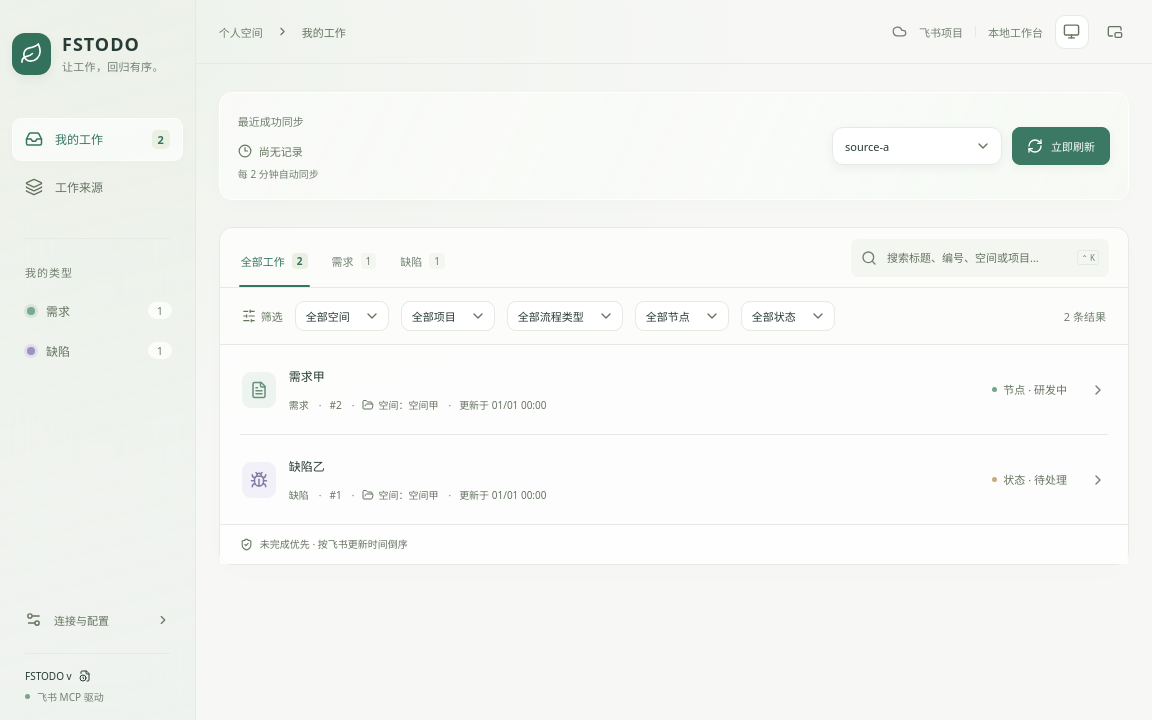
Test: 清单模式 › 在小窗内打开详情，Esc 或返回按钮回到清单并把焦点还给原事项
Check: the text "需求甲" is shown, box x1=289 y1=368 x2=325 y2=385
Click the button named "切换到清单模式" at [1115, 32], box x1=1101 y1=18 x2=1129 y2=46
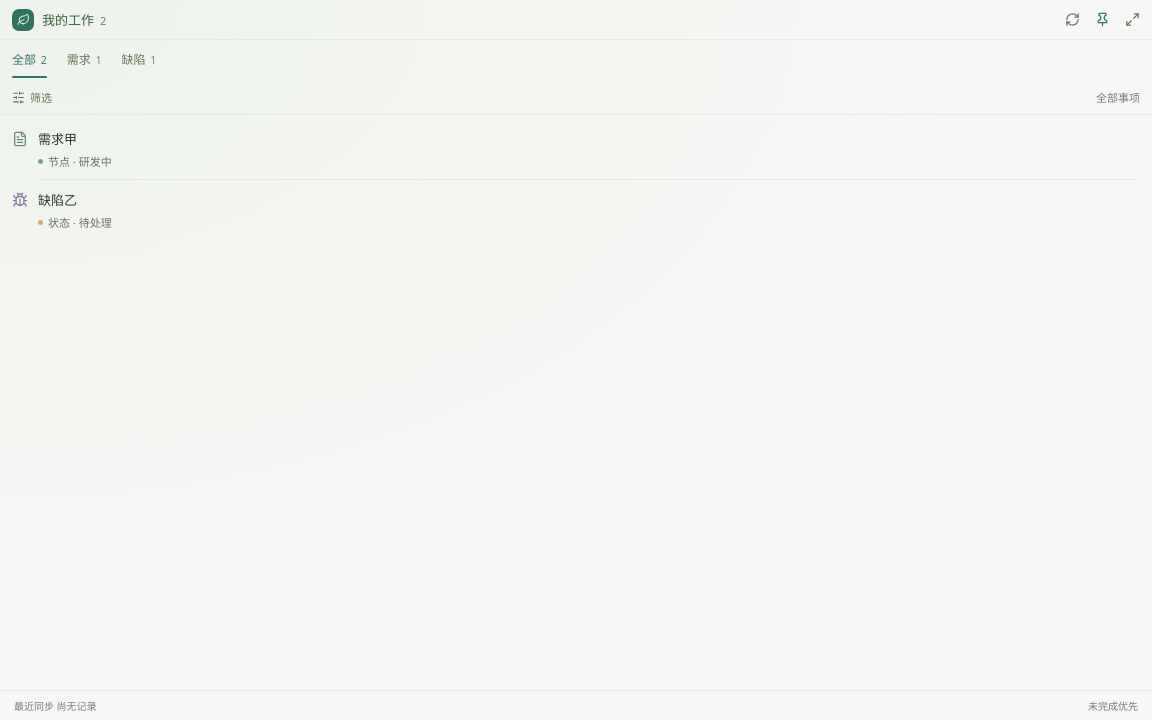
Click the button "缺陷乙 状态 · 待处理" at [58, 200], box x1=0 y1=180 x2=1151 y2=241
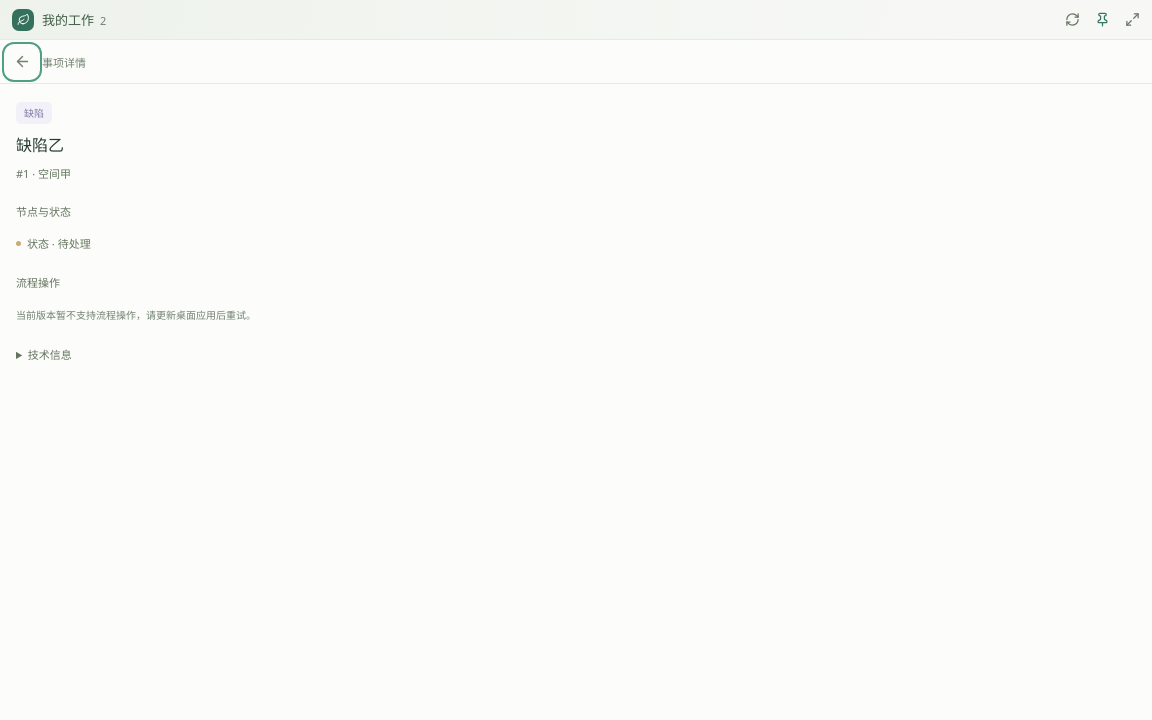
Check: the heading "缺陷乙" is shown, box x1=16 y1=134 x2=64 y2=156
Press Escape
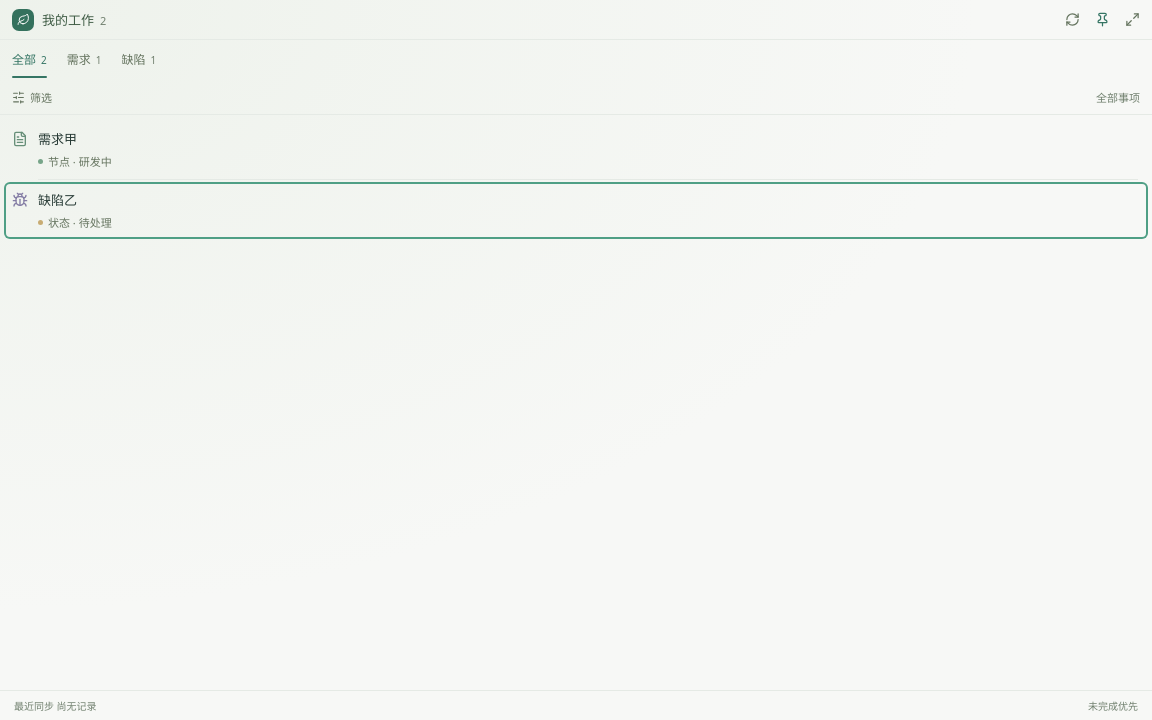
Check: the text "事项详情" is gone
Press Enter
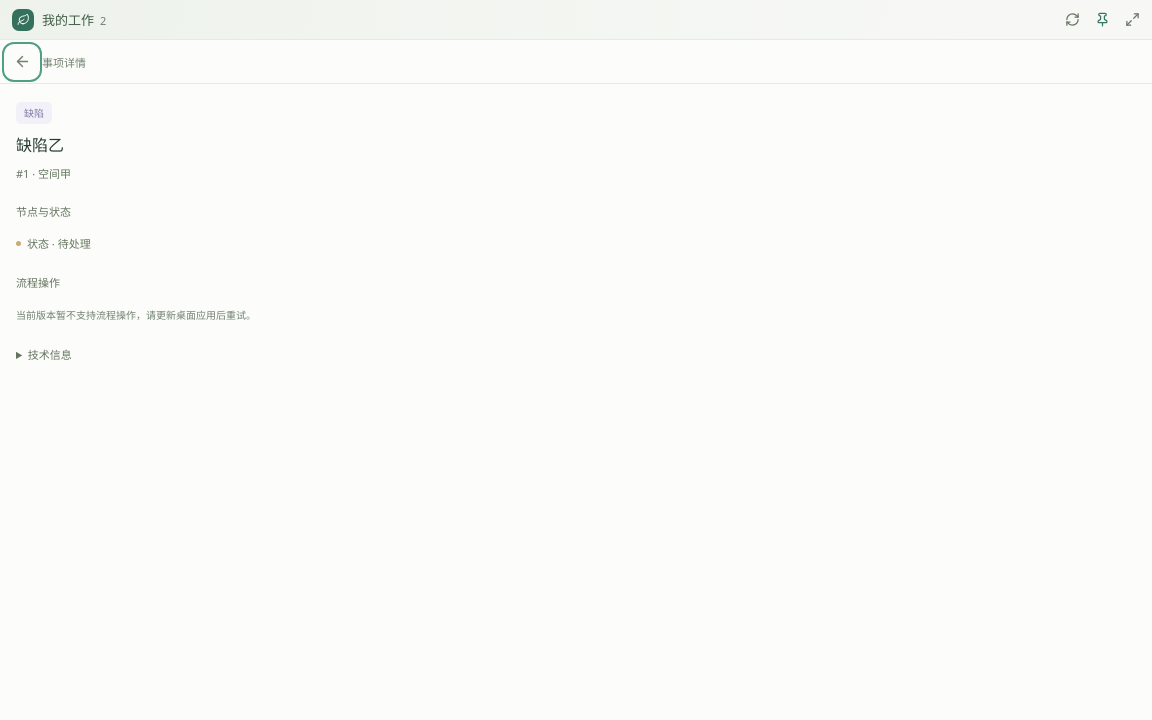
Click the button named "返回清单" at [22, 62], box x1=8 y1=48 x2=36 y2=76
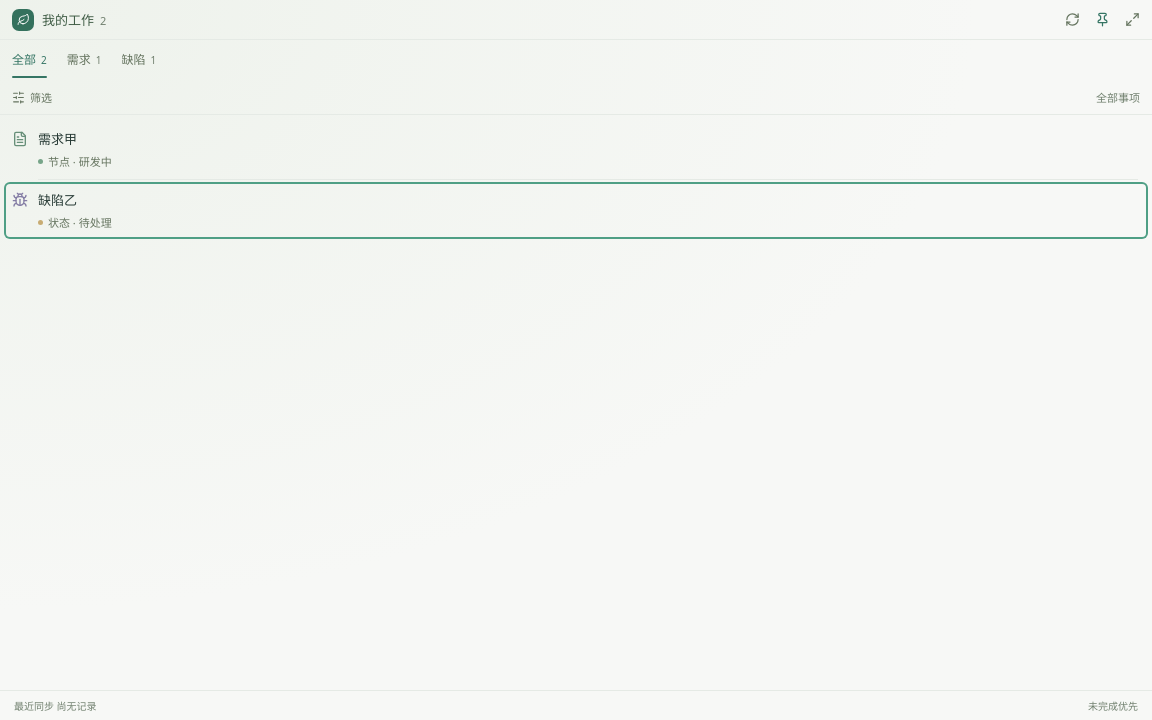
Check: the text "事项详情" is gone
